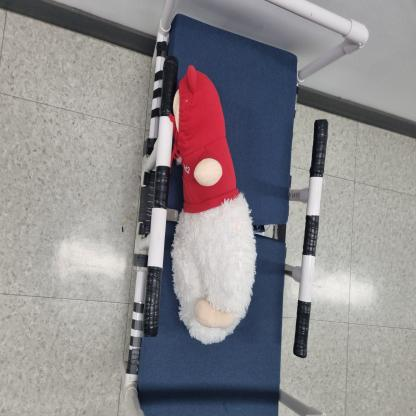yp: (160, 0, 342, 416)
